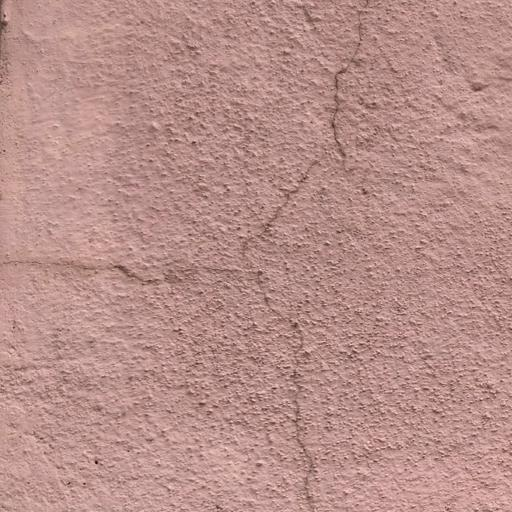minor_crack: (243, 0, 379, 512), (0, 244, 264, 289)
